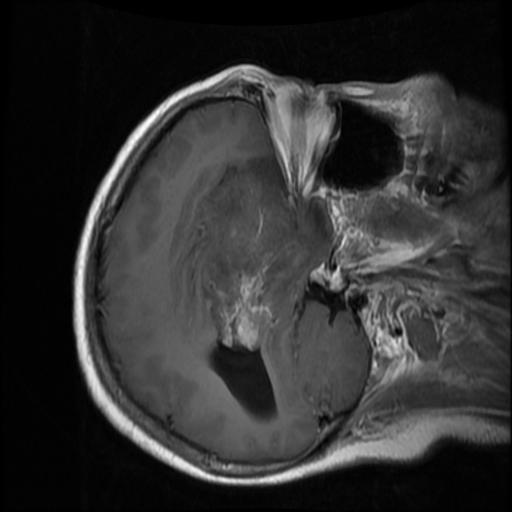glioma: (169, 157, 333, 349)
